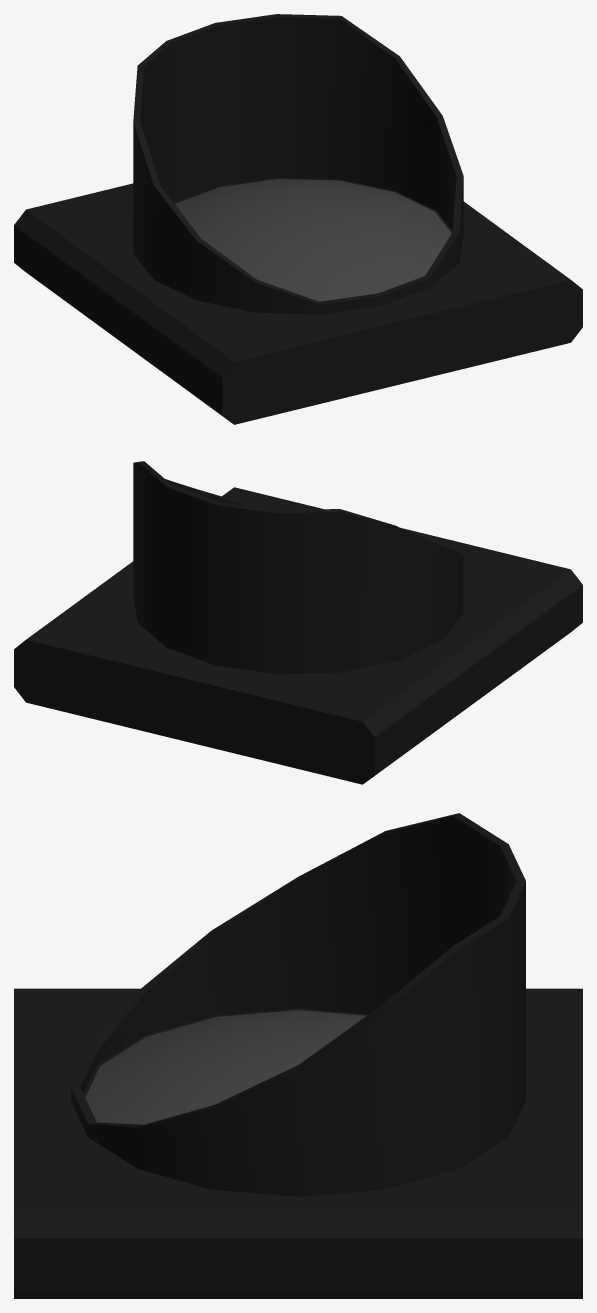
Rendered from Light_XinHaoDeng_1X1_off.FBX.
The picture shows the model from 3 angles, top to bottom: view 1: azimuth 30°, elevation 25°; view 2: azimuth 150°, elevation 25°; view 3: azimuth 270°, elevation 25°; orthographic projection. The views are drawn at different scales.
Visible parts, largest first — view 1: Box004; view 2: Box004; view 3: Box004.
Part boxes in pixels (left/top/right/bottom): Box004: left=14, top=14, right=582, bottom=424; Box004: left=14, top=461, right=582, bottom=784; Box004: left=14, top=813, right=582, bottom=1298.
Size of the model in its own units: 1 by 0.5927 by 1.
